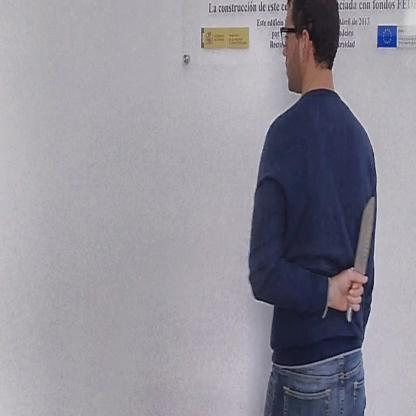knife: (341, 187, 380, 330)
